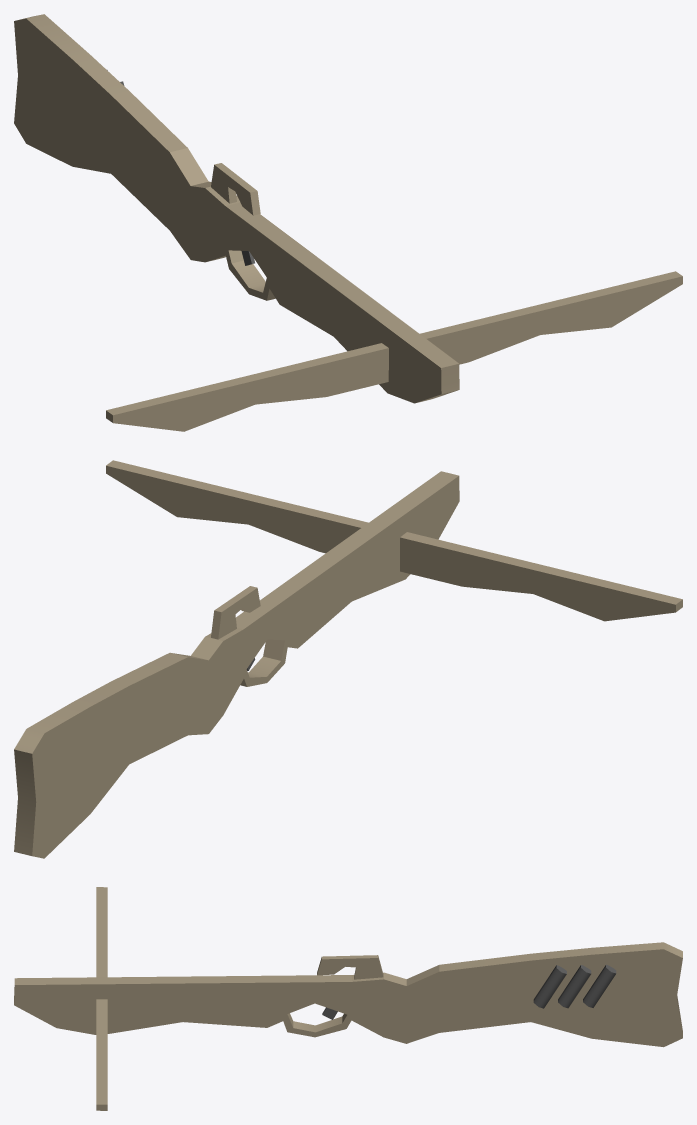
The model's file is Weapon_Rifle_Blockout.fbx.
The picture shows the model from 3 angles, top to bottom: view 1: azimuth 30°, elevation 25°; view 2: azimuth 150°, elevation 25°; view 3: azimuth 270°, elevation 25°; orthographic projection. The views are drawn at different scales.
Parts seen in each view (by area): view 1: pCube4, pCube6, pCube5; view 2: pCube4, pCube6, pCube5; view 3: pCube4, pCube6, pCube5, pCylinder9, pCylinder7, pCylinder8.
Part boxes in pixels (x1,y1,x2,y2): pCube4: (14,14,459,403); pCube6: (106,271,682,431); pCube5: (211,163,260,215); pCube4: (14,471,459,858); pCube6: (106,460,682,621); pCube5: (211,586,260,639); pCube4: (14,942,682,1047); pCube6: (96,887,107,1110); pCube5: (317,955,383,979); pCylinder9: (583,964,616,1007); pCylinder7: (533,965,566,1008); pCylinder8: (558,965,591,1008).
Size of the model in its own units: 0.7229 by 0.1518 by 0.9394.
